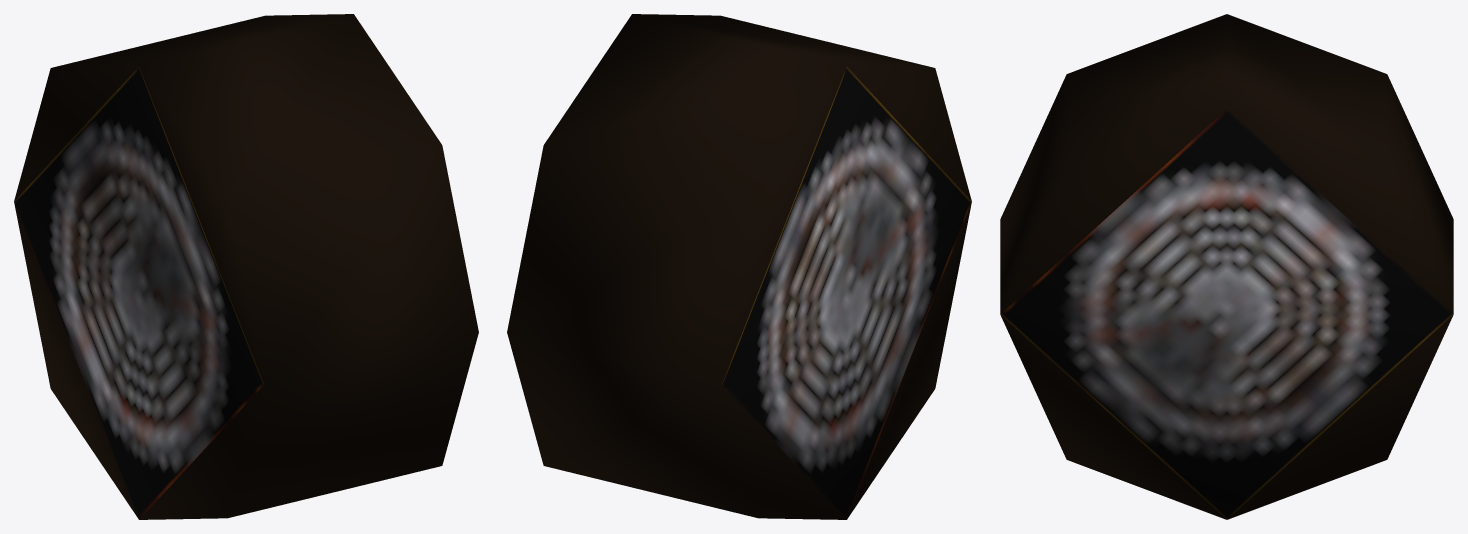
The model's file is WheelFrontL.obj.
3 views of the same model, side by side, from view 1: azimuth 30°, elevation 25°; view 2: azimuth 150°, elevation 25°; view 3: azimuth 270°, elevation 25° (orthographic). The views are drawn at different scales.
Parts seen in each view (by area): view 1: WheelFrontL; view 2: WheelFrontL; view 3: WheelFrontL.
Part boxes in pixels (left/top/right/bottom): WheelFrontL: left=14, top=14, right=478, bottom=519; WheelFrontL: left=507, top=14, right=971, bottom=519; WheelFrontL: left=1000, top=14, right=1453, bottom=519.
Bounding box in the file's own units: 0.5977 × 1.21 × 1.21.
Materials: 2 (1 with a texture image).
